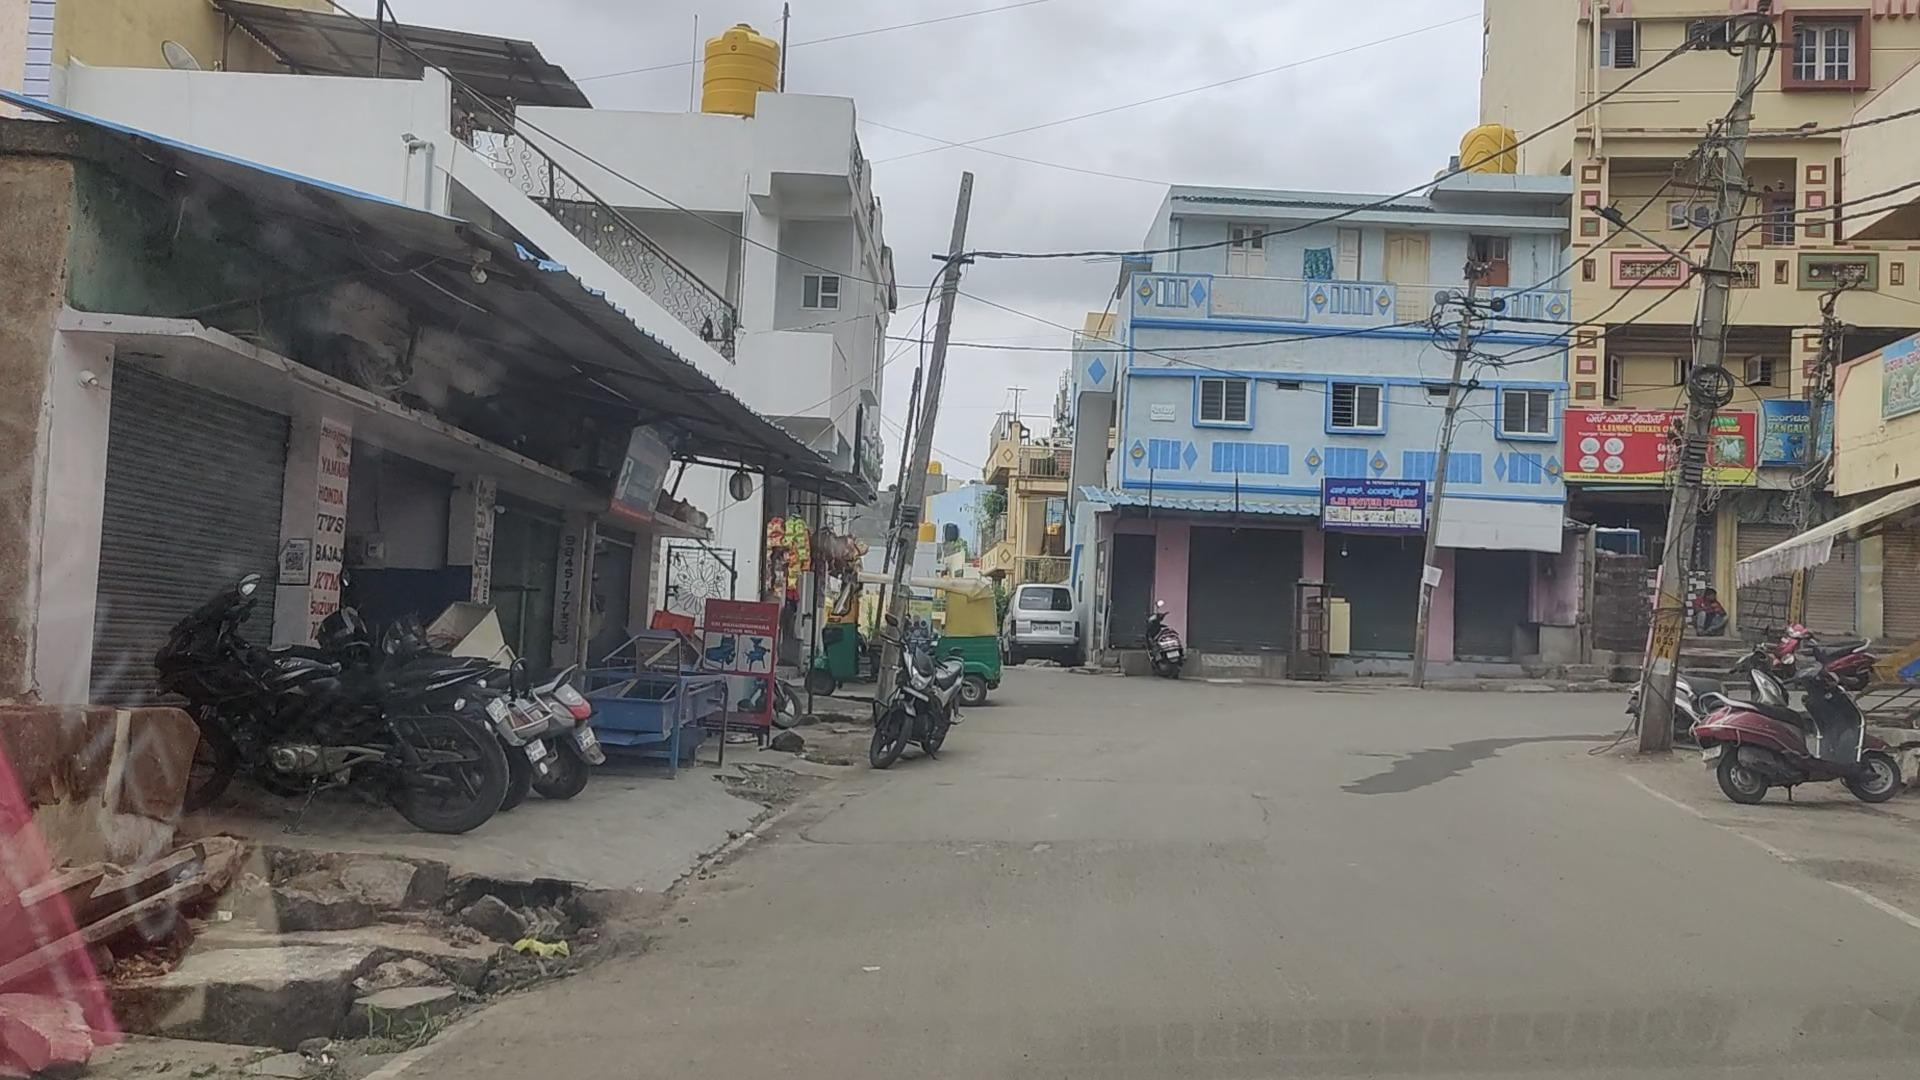RoadDamages: (807, 808, 1056, 869), (1236, 778, 1299, 844)
